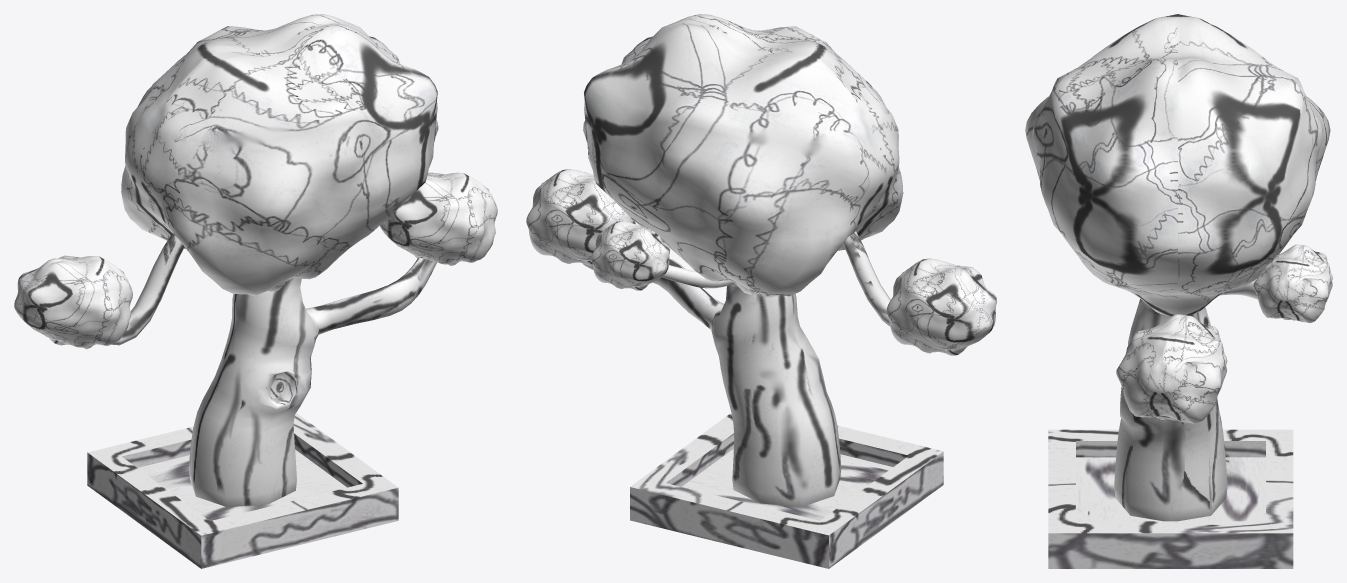
Rendered from TreeFull.fbx.
3 renders of one model, left to right at view 1: azimuth 30°, elevation 25°; view 2: azimuth 150°, elevation 25°; view 3: azimuth 270°, elevation 25°, orthographic. The views are drawn at different scales.
Parts seen in each view (by area): view 1: TreeLeaves, TreeTrunk, TreeBase, TreeLeaves.001, TreeLeaves.002; view 2: TreeLeaves, TreeTrunk, TreeBase, TreeLeaves.001, TreeLeaves.002, TreeLeaves.003; view 3: TreeLeaves, TreeBase, TreeTrunk, TreeLeaves.002, TreeLeaves.003.
Boxes of the visible parts, x1,y1,x2,y2 form: TreeLeaves: [121, 14, 438, 295]; TreeTrunk: [111, 233, 436, 507]; TreeBase: [87, 413, 398, 568]; TreeLeaves.001: [14, 255, 132, 349]; TreeLeaves.002: [380, 172, 497, 265]; TreeLeaves: [583, 14, 903, 298]; TreeTrunk: [582, 231, 890, 506]; TreeBase: [630, 413, 943, 568]; TreeLeaves.001: [886, 258, 996, 355]; TreeLeaves.002: [526, 169, 635, 266]; TreeLeaves.003: [591, 221, 669, 290]; TreeLeaves: [1025, 14, 1330, 316]; TreeBase: [1048, 429, 1293, 568]; TreeTrunk: [1114, 280, 1257, 521]; TreeLeaves.002: [1116, 314, 1227, 423]; TreeLeaves.003: [1253, 244, 1332, 323].
Bounding box in the file's own units: 470 × 445 × 251.
3 materials, 3 textured.
